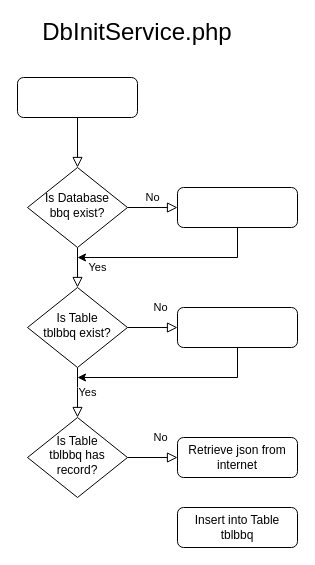
The diagram is 315 pixels wide and 565 high, and some of its shapes have lost their labels. The shapes that lost their labels are listed below. From the top down, each one's centre as x and y in pixels, then its label:
At pixel 77 97: "body onload event".
At pixel 237 207: "Create Database bbq".
At pixel 237 327: "Create Table tblbbq".
